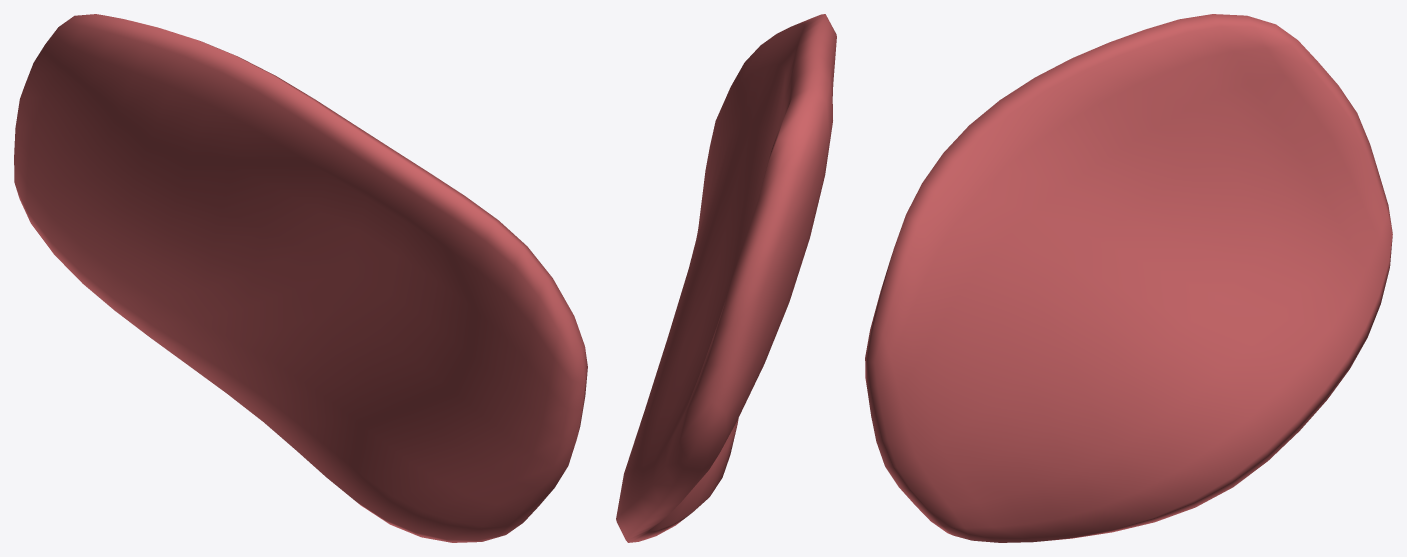
3 renders of one model, left to right at view 1: azimuth 30°, elevation 25°; view 2: azimuth 150°, elevation 25°; view 3: azimuth 270°, elevation 25°, orthographic. The views are drawn at different scales.
Visible parts, largest first — view 1: 左侧胫骨前肌腱下囊; view 2: 左侧胫骨前肌腱下囊; view 3: 左侧胫骨前肌腱下囊.
Boxes of the visible parts, box(x1,y1,x2,y2) form: 左侧胫骨前肌腱下囊: box(14, 14, 587, 542); 左侧胫骨前肌腱下囊: box(616, 14, 836, 542); 左侧胫骨前肌腱下囊: box(865, 14, 1392, 542).
Size of the model in its own units: 0.0111 by 0.017 by 0.0183.
